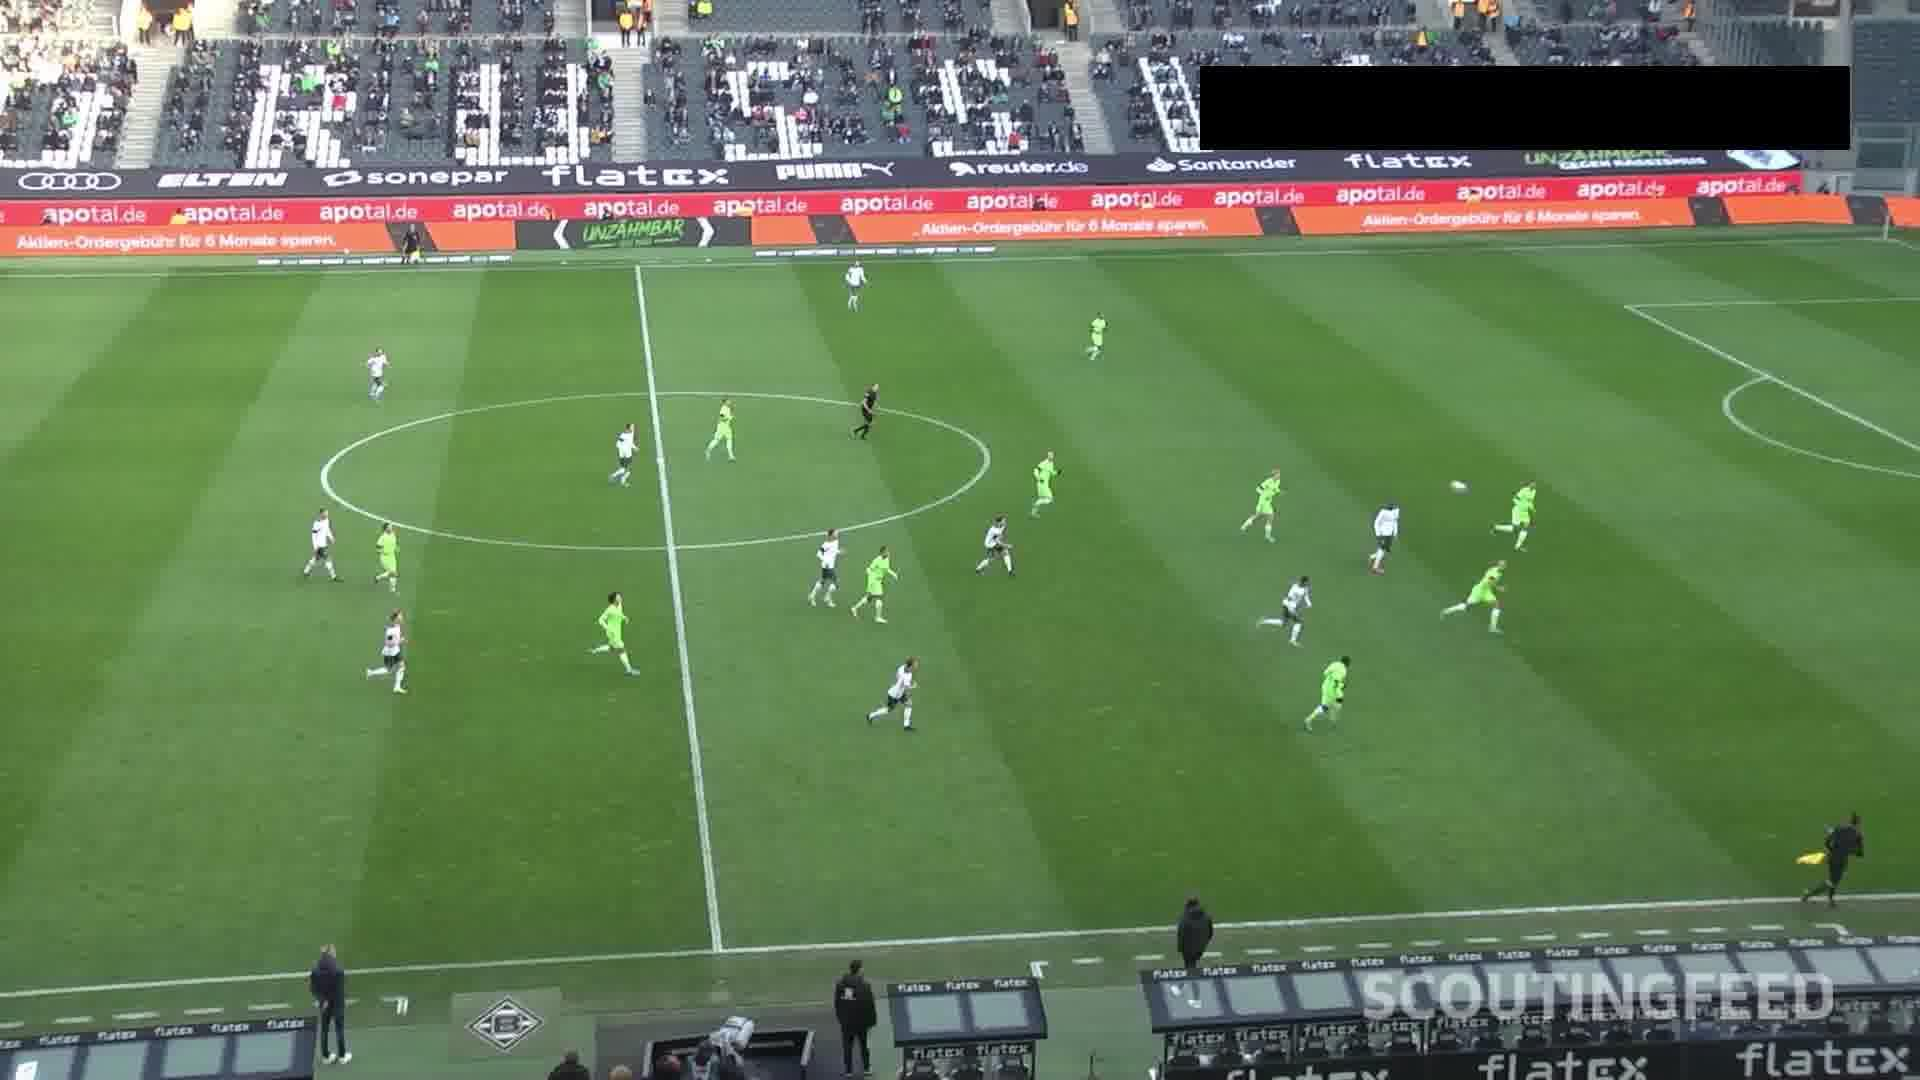football: (1448, 476, 1469, 493)
